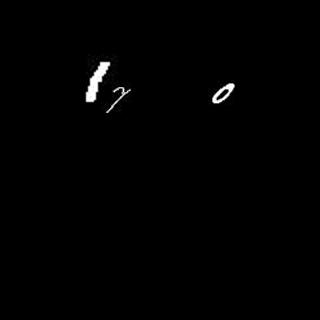one: (83, 58, 109, 104)
seven: (105, 83, 132, 112)
zero: (211, 84, 234, 105)
